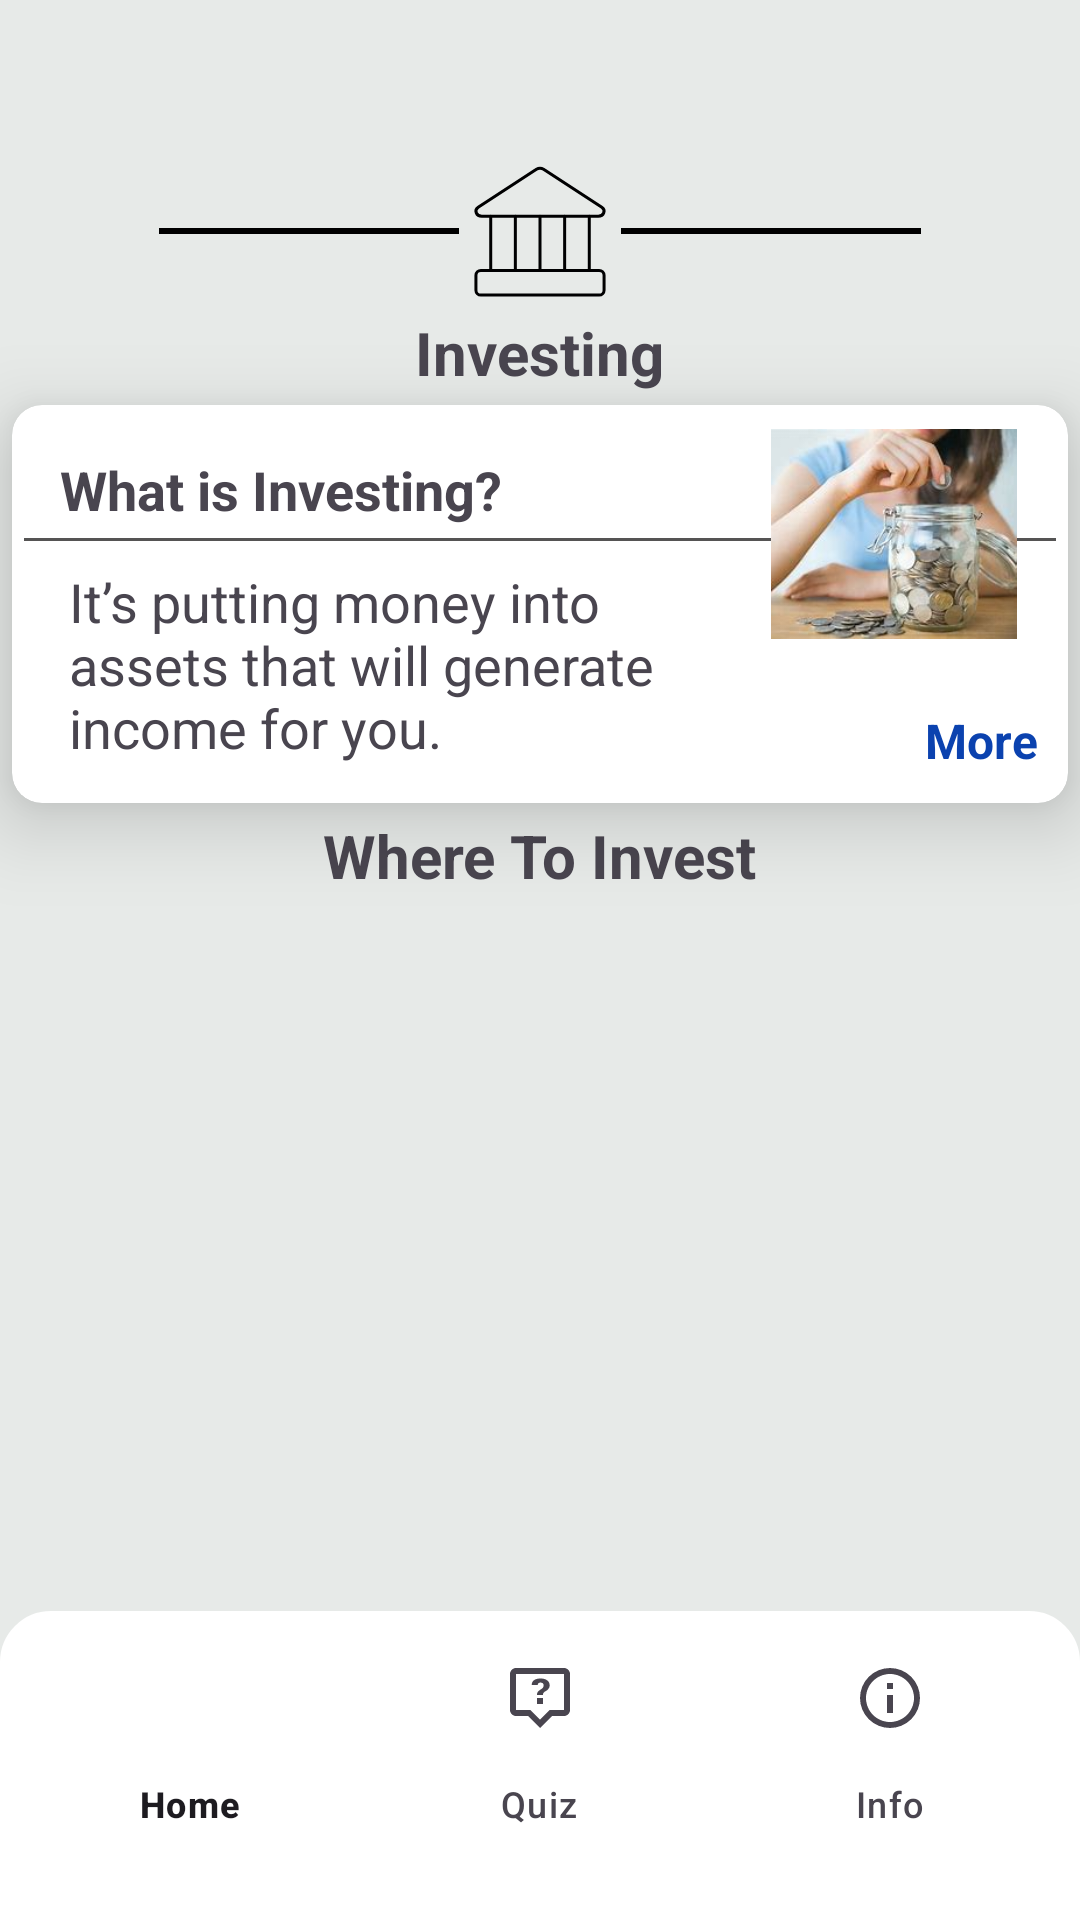

Where icons sit on this 1080px x 1920px app screen, as box=[x1, y1, x2, y2]:
save: box=[744, 429, 1044, 639]
